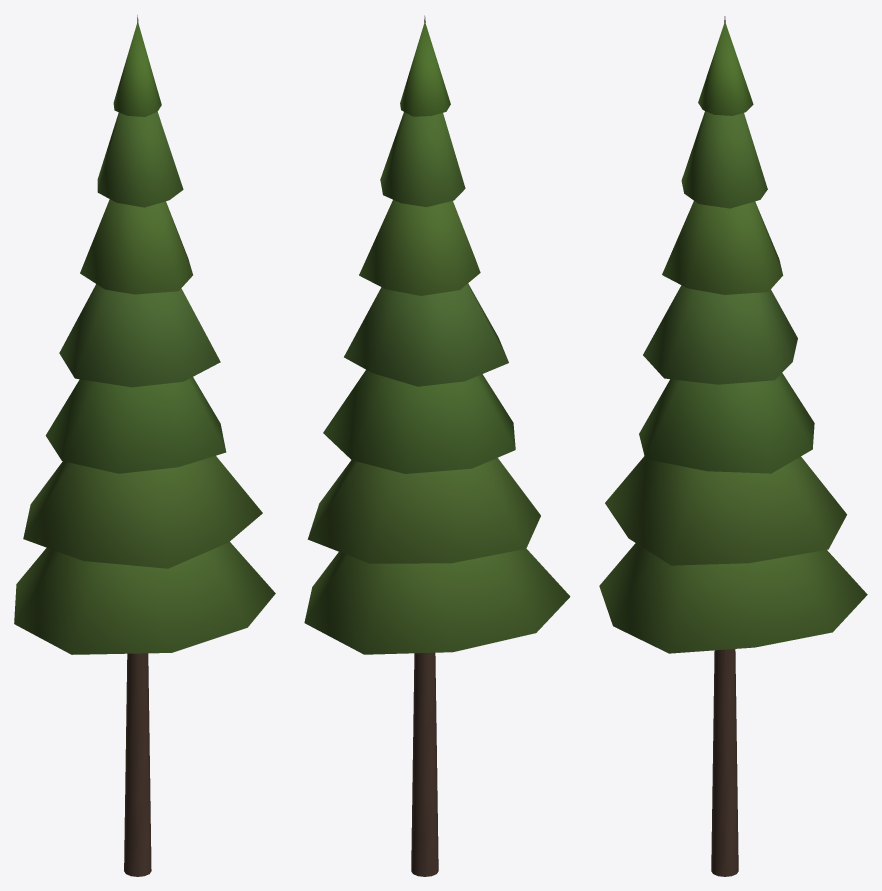
Rendered from SM_TreeFar_larch_0.glb.
The picture shows the model from 3 angles, left to right: view 1: azimuth 30°, elevation 25°; view 2: azimuth 150°, elevation 25°; view 3: azimuth 270°, elevation 25°; orthographic projection.
Parts seen in each view (by area): view 1: SM_TreeFar_larch_0; view 2: SM_TreeFar_larch_0; view 3: SM_TreeFar_larch_0.
Part boxes in pixels (x1,y1,x2,y2): SM_TreeFar_larch_0: [14, 15, 275, 876]; SM_TreeFar_larch_0: [304, 15, 570, 876]; SM_TreeFar_larch_0: [599, 16, 867, 876].
Bounding box in the file's own units: 5.1 × 18.35 × 5.21.
